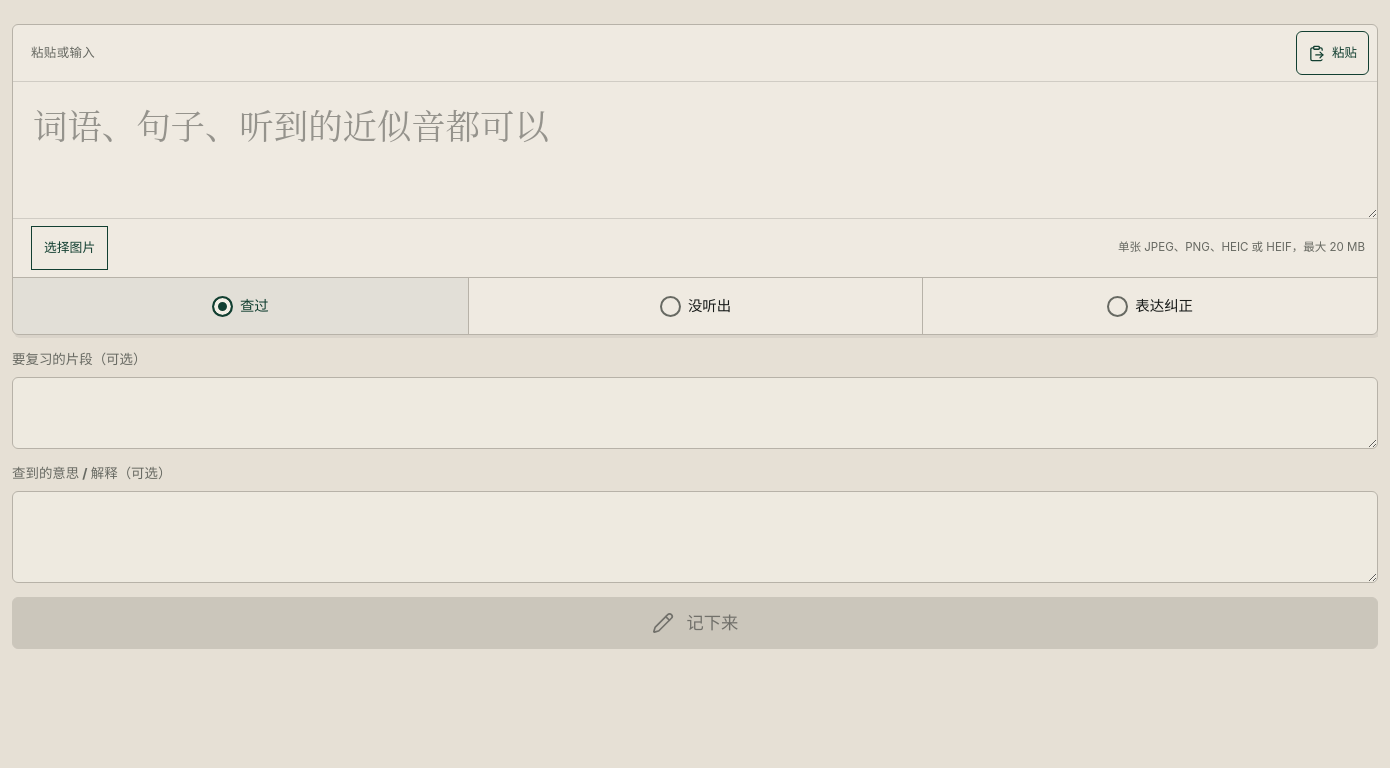
CaptureComposer › keeps the native long-press paste path available when clipboard reading fails
Click the button "粘贴". click: (1332, 53)
box: [1296,31,1369,75]
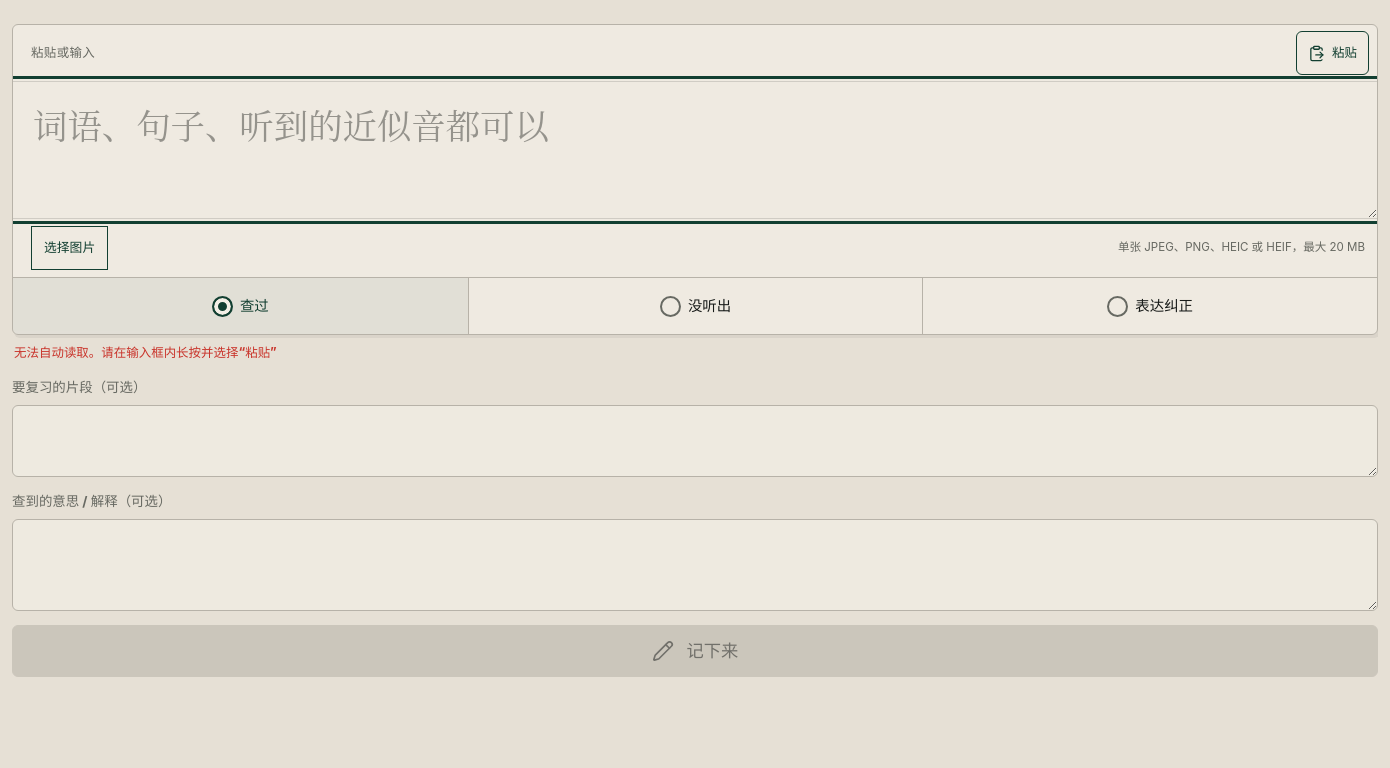
Expected: the message shows "请在输入框内长按并选择“粘贴”", [14,345,277,360]
